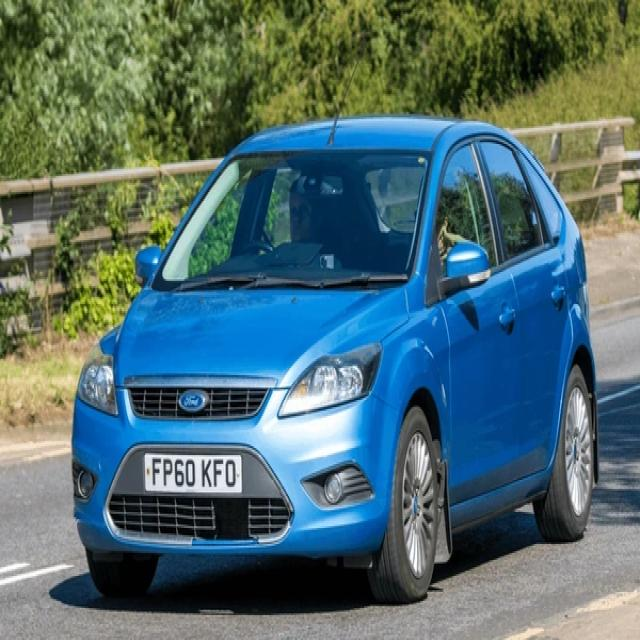ford: (179, 391, 207, 412)
